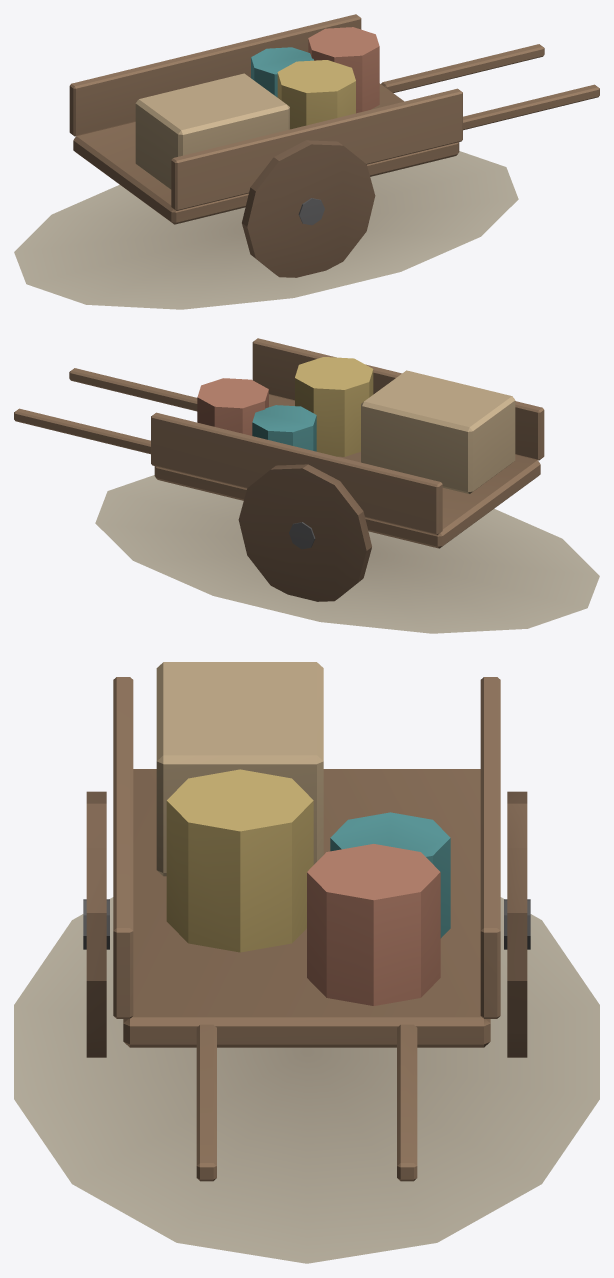
Rendered from cart.glb.
3 renders of one model, top to bottom at view 1: azimuth 30°, elevation 25°; view 2: azimuth 150°, elevation 25°; view 3: azimuth 270°, elevation 25°, orthographic. The views are drawn at different scales.
Parts seen in each view (by area): view 1: cart; view 2: cart; view 3: cart.
Boxes of the visible parts, x1,y1,x2,y2 form: cart: [14, 14, 599, 309]; cart: [14, 338, 599, 633]; cart: [14, 662, 599, 1263].
Size of the model in its own units: 3.4 by 0.95 by 1.75.
